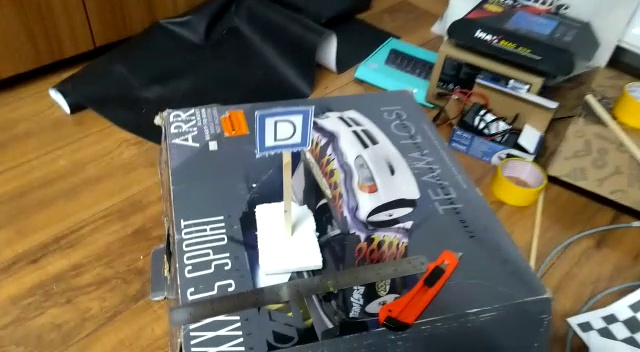durak: (258, 108, 309, 153)
